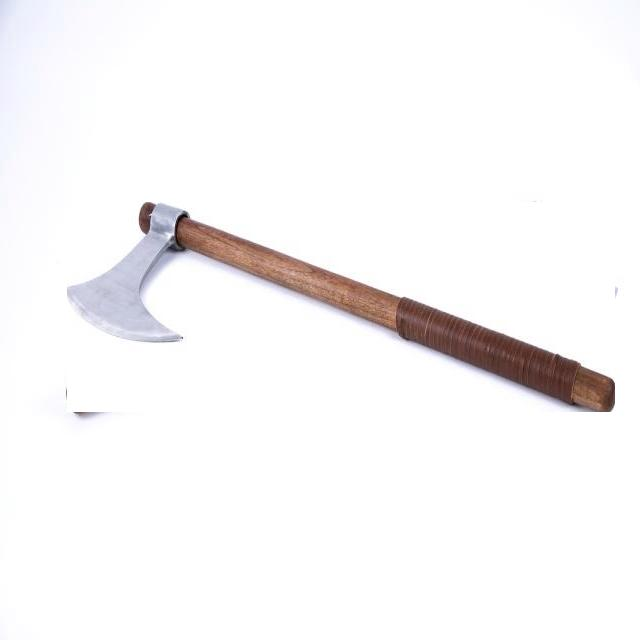Axe: (68, 203, 615, 412)
